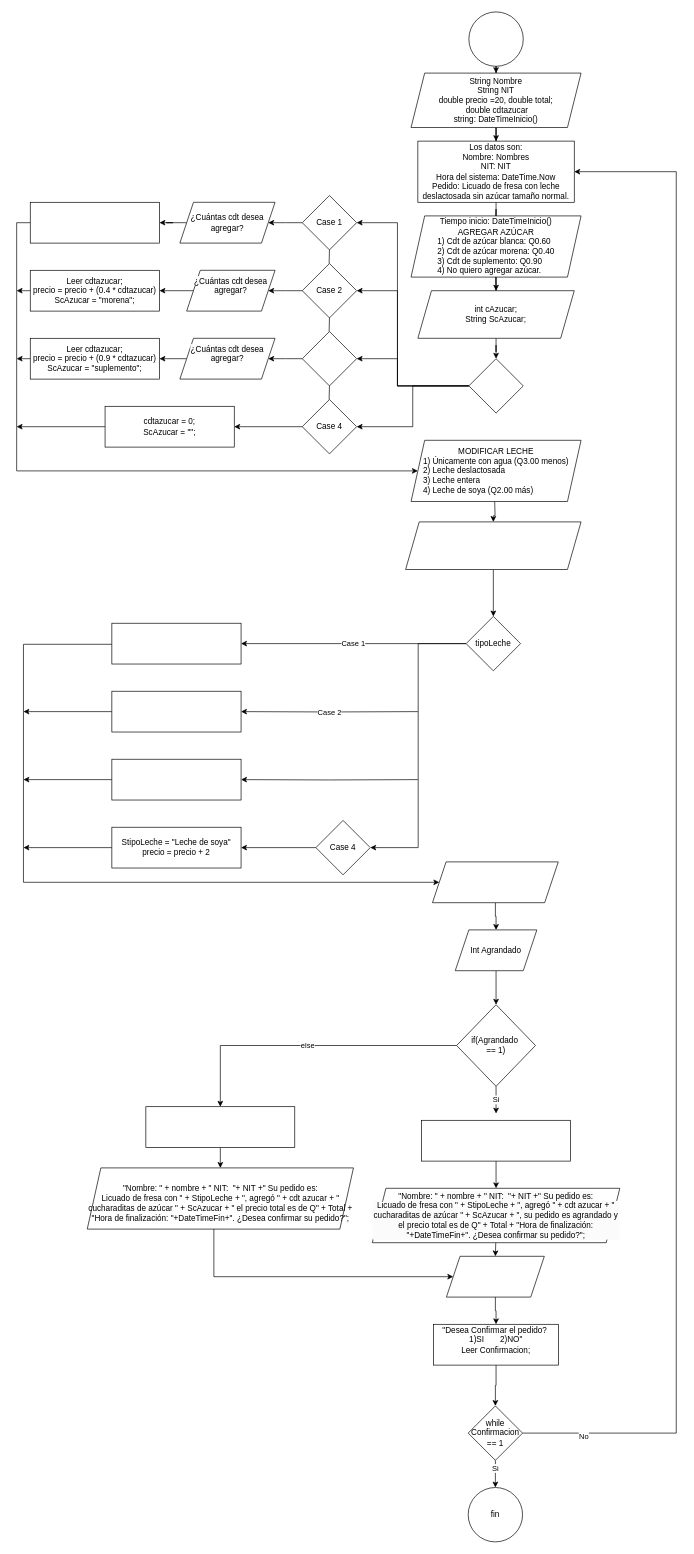
The diagram is 694 pixels wide and 1554 high, and some of its shapes have lost their labels. Each missing label, with the box of its shape:
AGRANDAR PEDIDO 1) Si (7% más costoso). 2) No.: (432, 861, 558, 903)
Case 3: (302, 331, 357, 386)
cAzucar: (468, 358, 523, 413)
Inicio: (468, 11, 523, 66)
Int Confirmacion string: DateTimeFin(): (446, 1256, 544, 1297)
int tipoLeche String StipoLeche: (405, 521, 581, 570)
Leer cdtazucar; precio = precio + (0.6 * cdtazucar) ScAzucar = "blanca";: (30, 202, 159, 243)
StipoLeche = "agua" precio = precio - 3: (111, 623, 241, 664)
StipoLeche = "Leche deslactosada": (111, 691, 241, 732)
StipoLeche = "Leche entera": (111, 759, 241, 800)
Total = precio: (145, 1106, 295, 1148)
Total = precio + (precio * 0.07): (421, 1120, 571, 1161)
